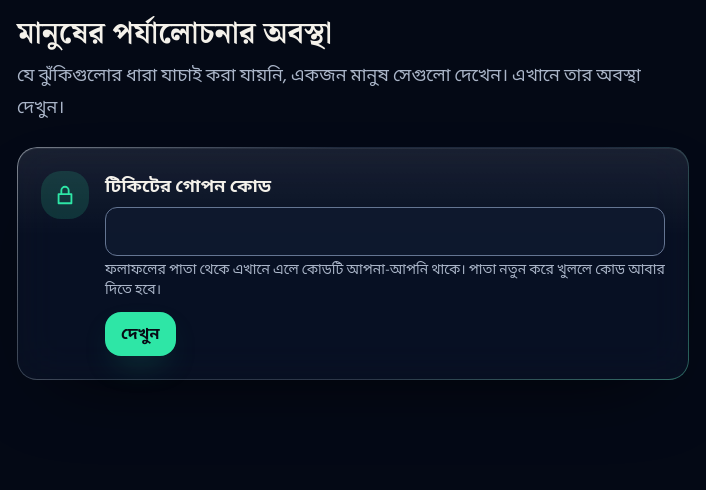
Test: TicketPage › FR-61 asks for the secret code when this page load does not know it, and sends it in a header
The width and height of the screenshot is (706, 490).
Type "my-secret-code" into the field labelled "টিকিটের গোপন কোড".
click(385, 231); type("my-secret-code")  # box 105,206 -> 665,256
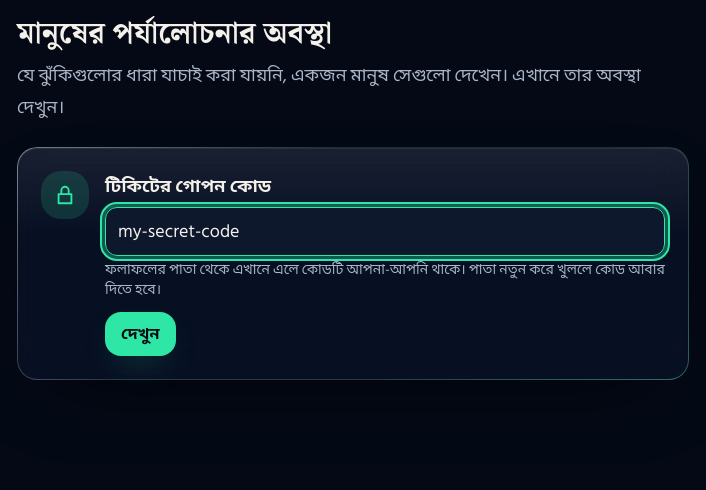
Click the button "দেখুন".
click(140, 334)  # box 105,312 -> 176,356
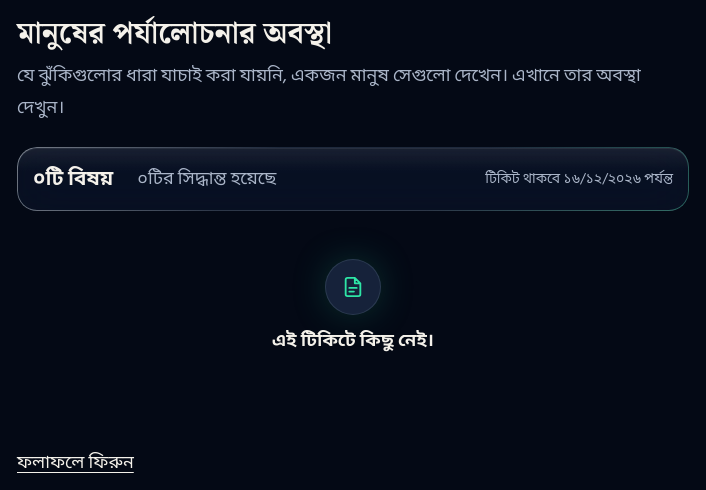
expect the heading "এই টিকিটে কিছু নেই।" is shown: met, box 272,326 -> 434,354
